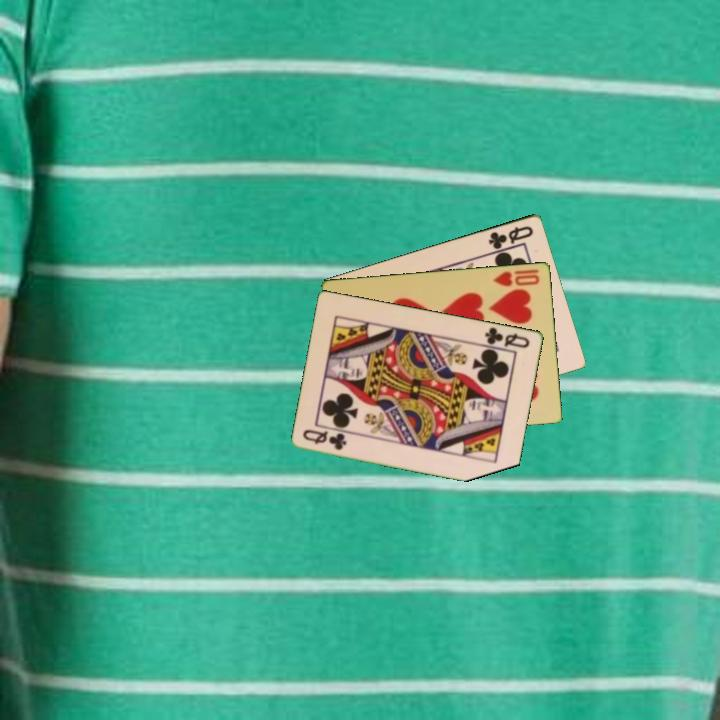10h: (490, 265, 543, 289)
Qc: (478, 323, 533, 351), (485, 222, 536, 252), (300, 425, 350, 453)
